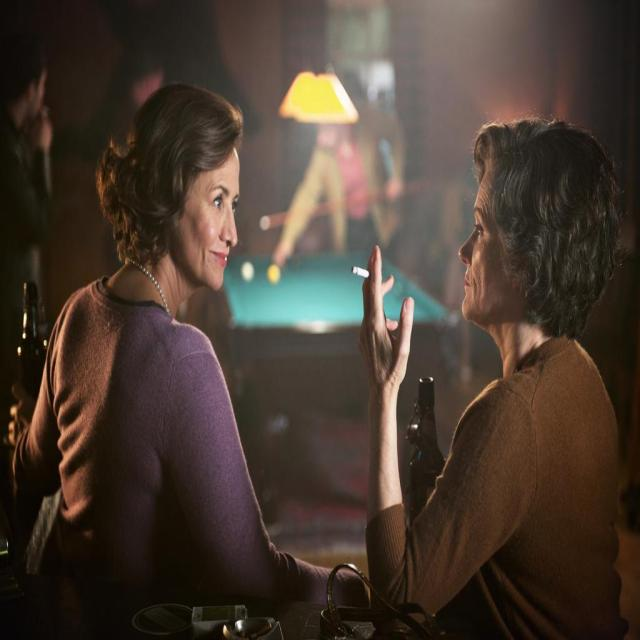smoking: (334, 152, 607, 358)
